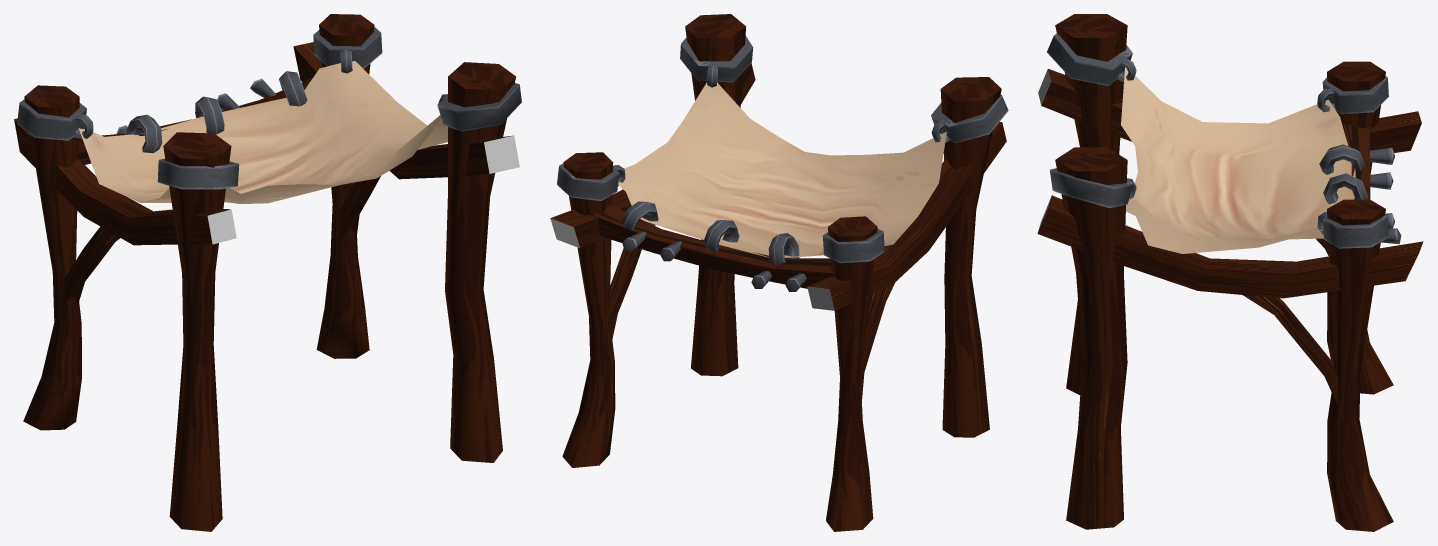
Rendered from SM_PROP_market_v03_02.fbx.
3 views of the same model, side by side, from view 1: azimuth 30°, elevation 25°; view 2: azimuth 150°, elevation 25°; view 3: azimuth 270°, elevation 25° (orthographic). The views are drawn at different scales.
Visible parts, largest first — view 1: SM_PROP_market_v03_02; view 2: SM_PROP_market_v03_02; view 3: SM_PROP_market_v03_02.
Boxes of the visible parts, x1,y1,x2,y2 form: SM_PROP_market_v03_02: (14,14,521,531); SM_PROP_market_v03_02: (550,14,1008,531); SM_PROP_market_v03_02: (1037,14,1423,531).
Bounding box in the file's own units: 371 × 382 × 370.
